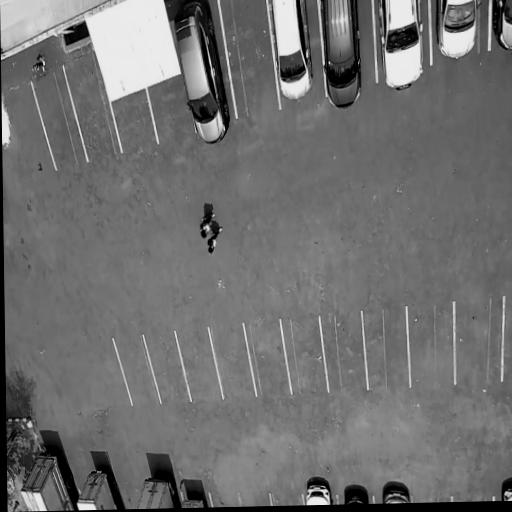Car: (170, 0, 231, 149), (319, 0, 364, 114), (267, 0, 314, 105), (377, 0, 426, 97), (18, 445, 78, 512), (438, 0, 481, 62), (74, 465, 123, 510), (134, 469, 179, 509), (492, 0, 512, 56), (304, 479, 333, 505), (382, 485, 412, 504), (181, 489, 208, 508), (343, 486, 370, 505), (500, 480, 512, 501)
Space Available: (219, 0, 279, 117), (64, 52, 121, 161), (31, 64, 87, 169), (454, 296, 504, 385), (279, 315, 329, 397), (406, 304, 454, 389), (319, 312, 366, 392), (362, 309, 409, 389), (243, 321, 291, 399), (176, 327, 223, 403), (209, 324, 256, 399), (143, 331, 191, 404), (114, 336, 161, 409), (146, 74, 196, 142), (111, 88, 158, 152), (502, 298, 512, 381), (239, 494, 271, 507), (270, 494, 303, 506)
